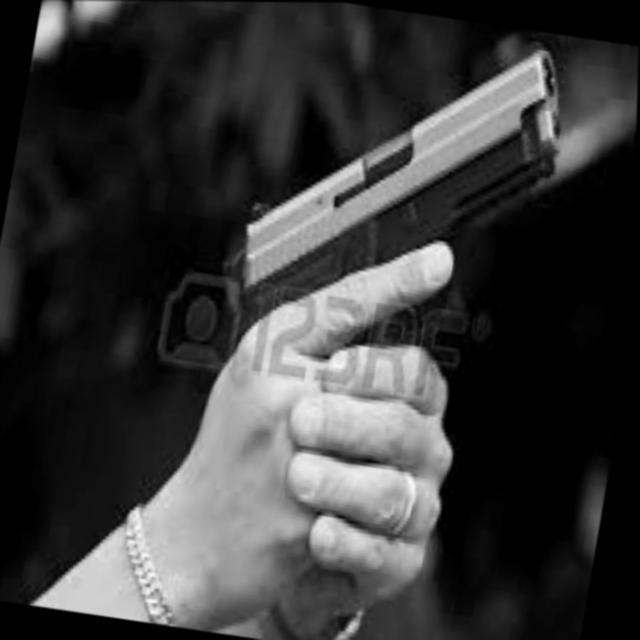weapon: (188, 5, 580, 627)
